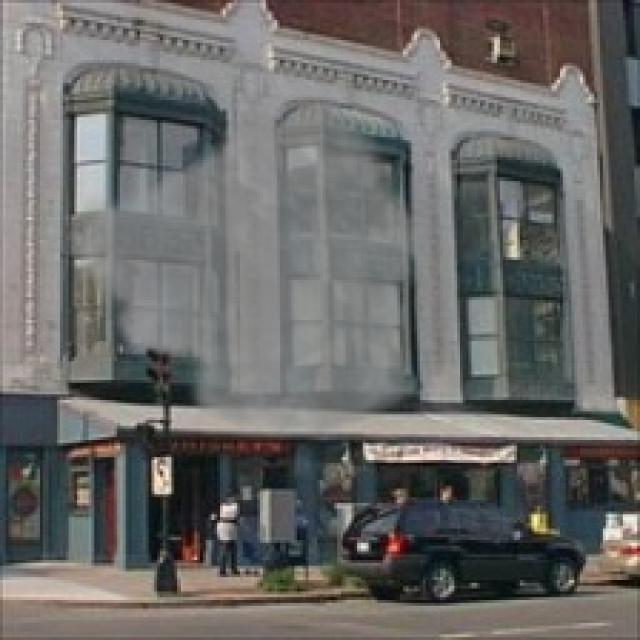smoke: (60, 94, 426, 443)
